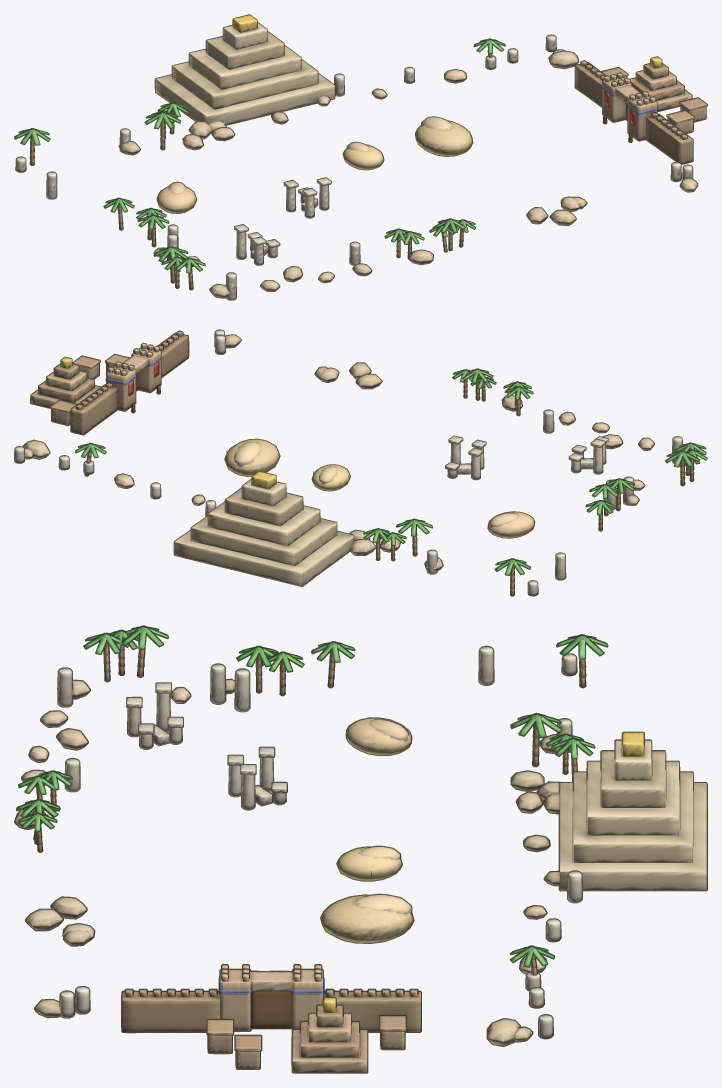
Rendered from desert_citadel.glb.
3 renders of one model, top to bottom at view 1: azimuth 30°, elevation 25°; view 2: azimuth 150°, elevation 25°; view 3: azimuth 270°, elevation 25°, orthographic. The views are drawn at different scales.
Parts seen in each view (by area): view 1: Baked_matte, Baked_matte_Outline; view 2: Baked_matte, Baked_matte_Outline, Baked_metal; view 3: Baked_matte, Baked_matte_Outline, Baked_metal.
Part boxes in pixels (x1=…): Baked_matte: x1=14, y1=23, x2=707, y2=299; Baked_matte_Outline: x1=14, y1=22, x2=707, y2=300; Baked_matte: x1=14, y1=330, x2=706, y2=595; Baked_matte_Outline: x1=14, y1=329, x2=707, y2=596; Baked_metal: x1=61, y1=357, x2=275, y2=489; Baked_matte: x1=15, y1=627, x2=706, y2=1072; Baked_matte_Outline: x1=14, y1=625, x2=707, y2=1073; Baked_metal: x1=324, y1=732, x2=643, y2=1012.
Size of the model in its own units: 41.46 by 6.04 by 29.74.
